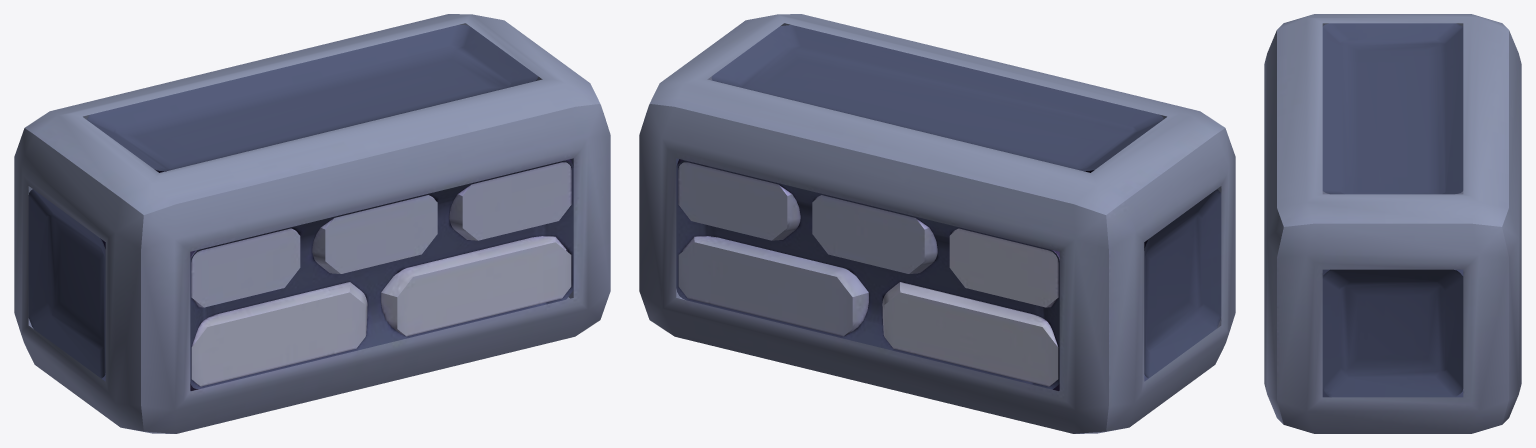
Rendered from tas2.glb.
The picture shows the model from 3 angles, left to right: view 1: azimuth 30°, elevation 25°; view 2: azimuth 150°, elevation 25°; view 3: azimuth 270°, elevation 25°; orthographic projection. The views are drawn at different scales.
Parts seen in each view (by area): view 1: tas2; view 2: tas2; view 3: tas2.
Part boxes in pixels (x1,y1,x2,y2): tas2: [14, 14, 610, 433]; tas2: [639, 14, 1235, 433]; tas2: [1264, 14, 1521, 433].
Size of the model in its own units: 3.05 by 1.51 by 1.51.
1 material, 1 textured.
